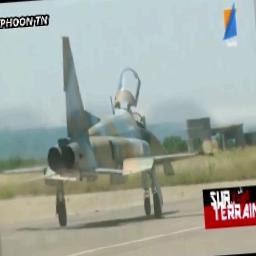Airplane: (10, 57, 213, 225)
